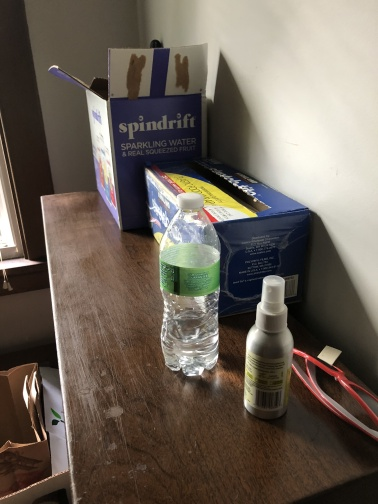bottle: (156, 190, 223, 378)
